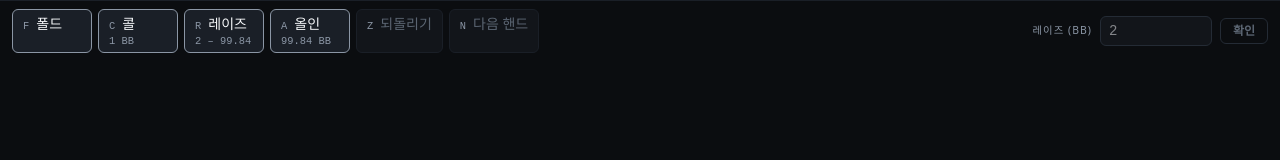
ActionDock — the raise-to editor › shows the engine’s own preview numbers, never its own arithmetic
Press r
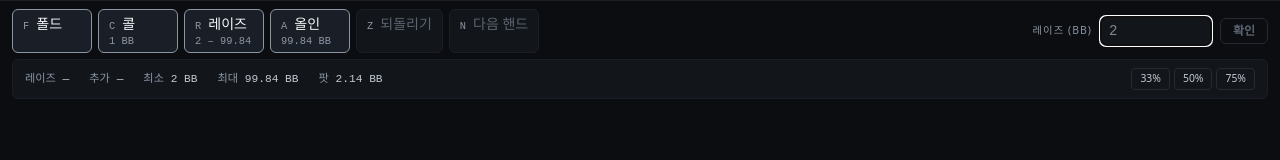
Type "9" into the field with test id "raise-input" at (1156, 31), box [1100, 16, 1212, 46]
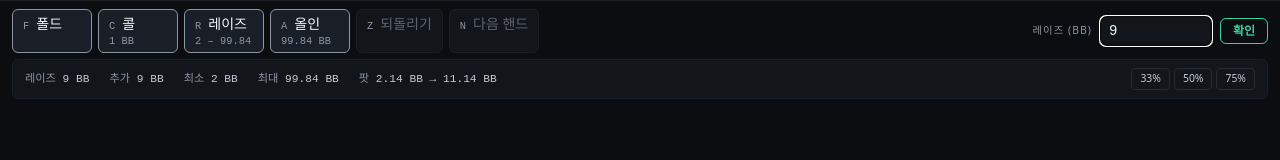
Expected: the element with test id "raise-preview-min" shows "2 BB", [211, 73, 238, 85]
Expected: the element with test id "raise-preview-to" shows "9 BB", [63, 73, 90, 85]
Expected: the element with test id "raise-preview-additional" shows "9 BB", [137, 73, 164, 85]
